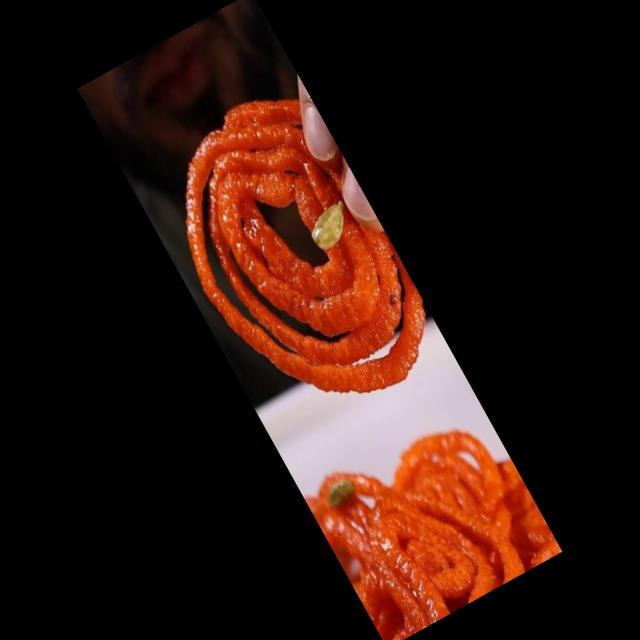jalebi: (136, 65, 451, 436), (284, 397, 561, 640)
